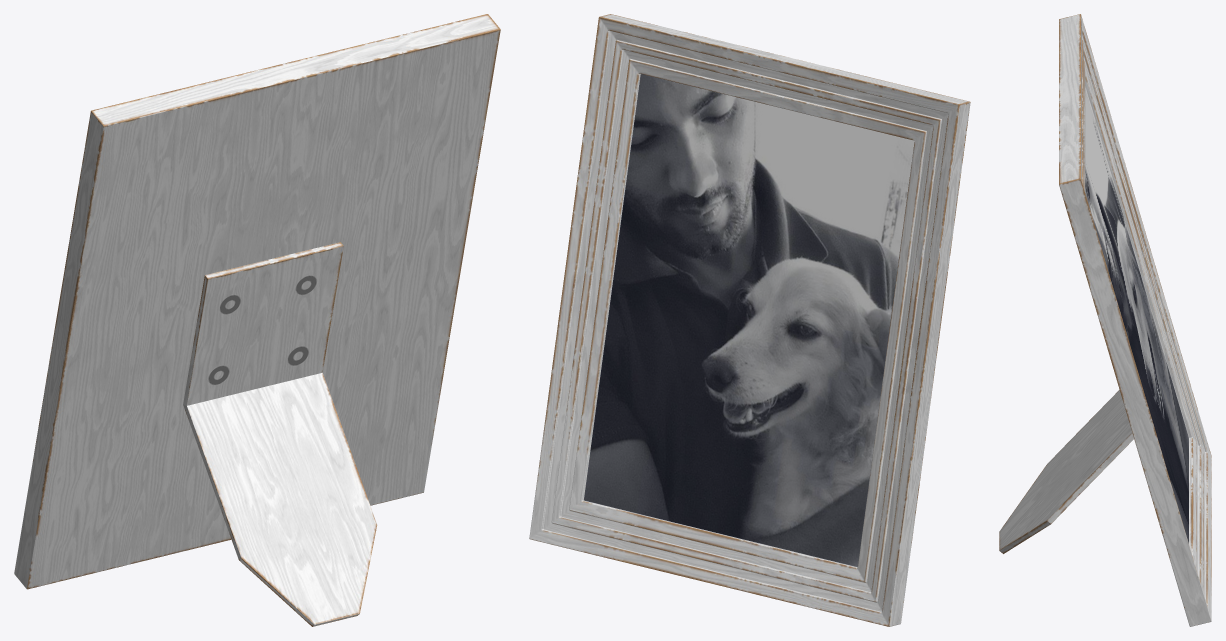
File: frame.glb
The picture shows the model from 3 angles, left to right: view 1: azimuth 30°, elevation 25°; view 2: azimuth 150°, elevation 25°; view 3: azimuth 270°, elevation 25°; orthographic projection. The views are drawn at different scales.
Parts seen in each view (by area): view 1: SM_Frame; view 2: SM_Frame; view 3: SM_Frame.
Boxes of the visible parts, bbox=[...] form: SM_Frame: bbox=[14, 14, 500, 626]; SM_Frame: bbox=[529, 14, 970, 626]; SM_Frame: bbox=[999, 14, 1211, 626].
Bounding box in the file's own units: 0.17 × 0.215 × 0.0924.
Materials: 1 (1 with a texture image).
